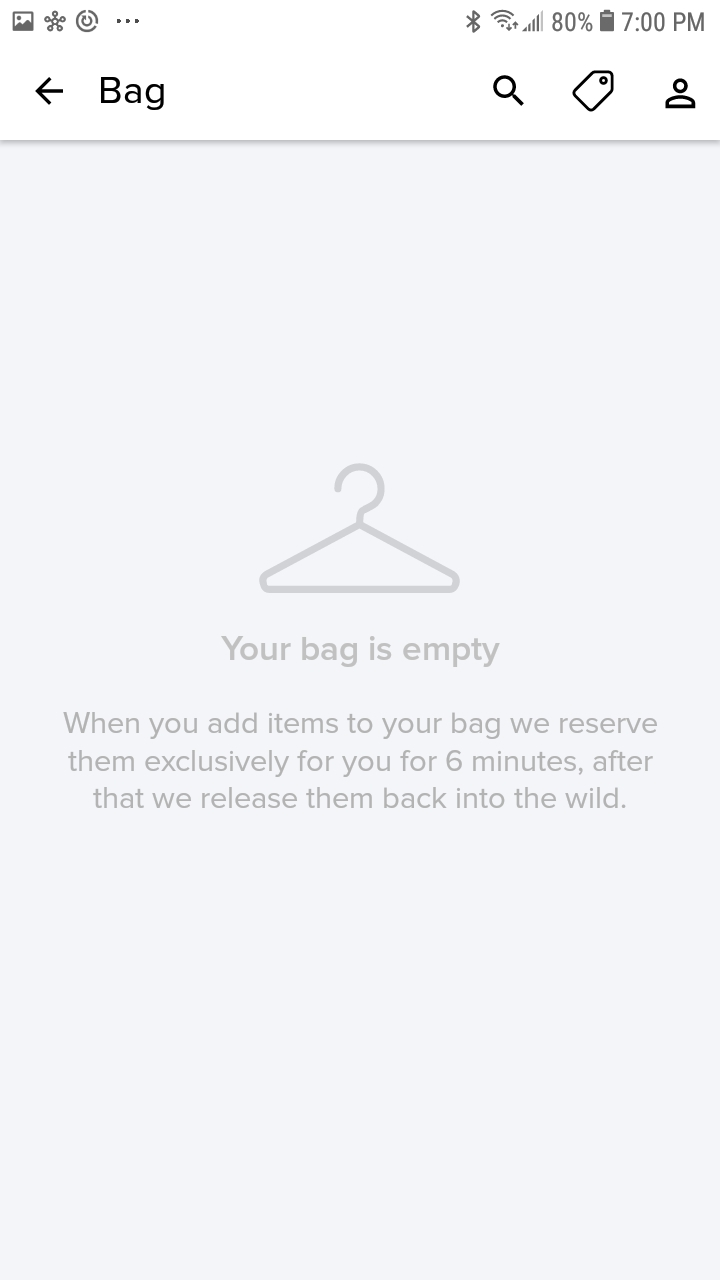Icon: (571, 70, 615, 113), (493, 76, 525, 108), (664, 78, 696, 110), (36, 77, 65, 107)
Image: (259, 462, 461, 594)
Text: (64, 711, 659, 810), (221, 635, 501, 668), (101, 77, 165, 112)
UpperTaskBar: (1, 1, 720, 34)
